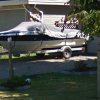Boat: (2, 15, 90, 66)
